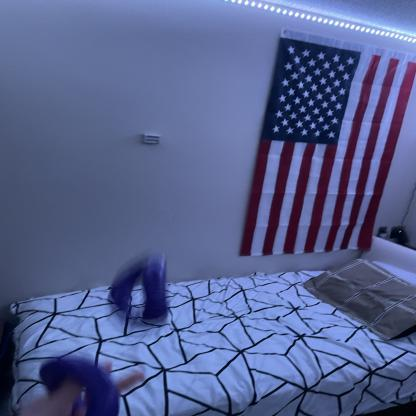ring: (36, 354, 122, 415), (108, 251, 170, 324)
